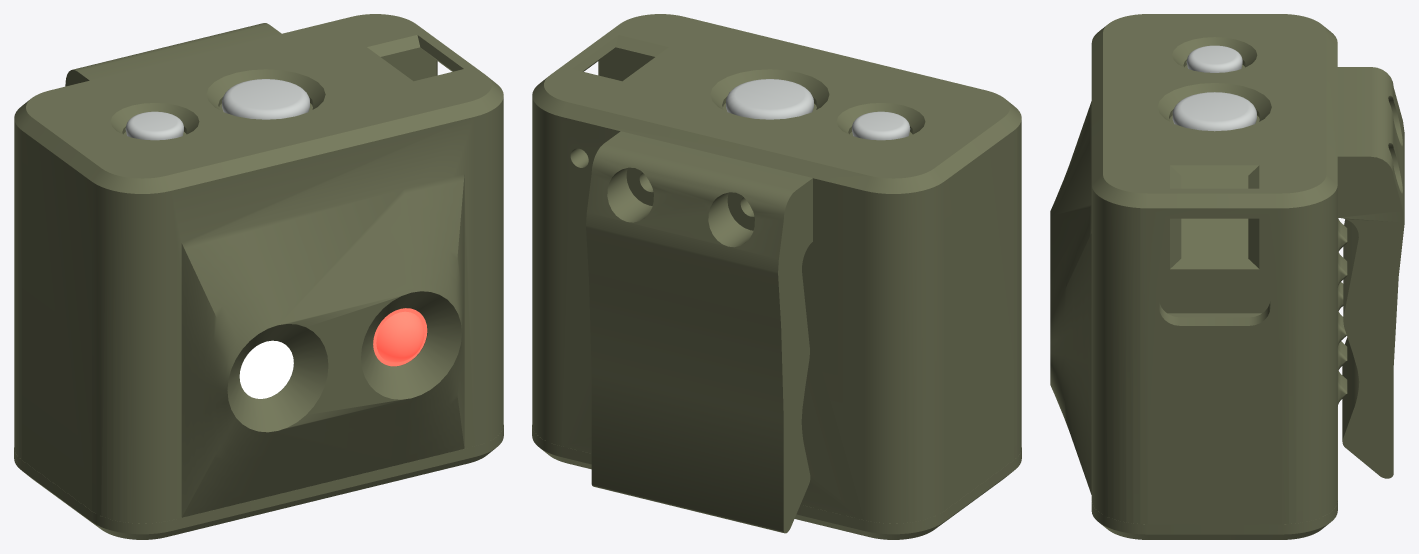
Rendered from ci-clop-mark.glb.
The picture shows the model from 3 angles, left to right: view 1: azimuth 30°, elevation 25°; view 2: azimuth 150°, elevation 25°; view 3: azimuth 270°, elevation 25°; orthographic projection. The views are drawn at different scales.
Visible parts, largest first — view 1: ci-clop-shell; view 2: ci-clop-shell; view 3: ci-clop-shell.
Part boxes in pixels (bbox=[...]): ci-clop-shell: bbox=[14, 14, 503, 539]; ci-clop-shell: bbox=[532, 14, 1021, 539]; ci-clop-shell: bbox=[1050, 14, 1404, 539].
Bounding box in the file's own units: 0.04 × 0.0342 × 0.0317.
